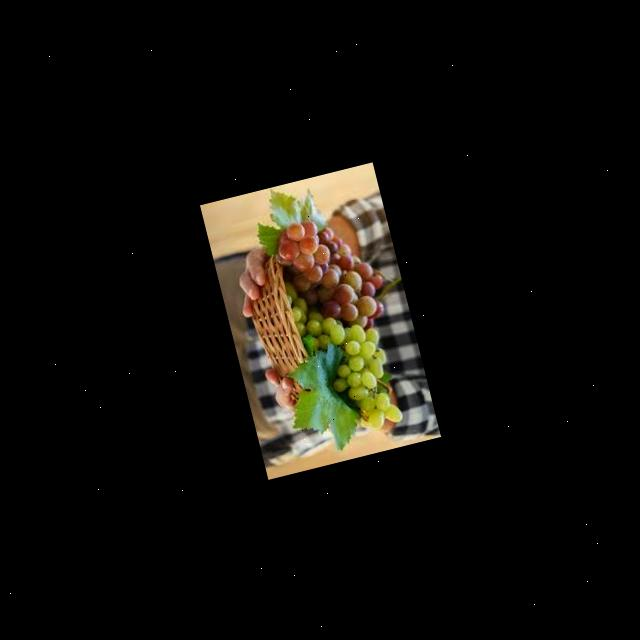grape: (269, 203, 420, 442)
